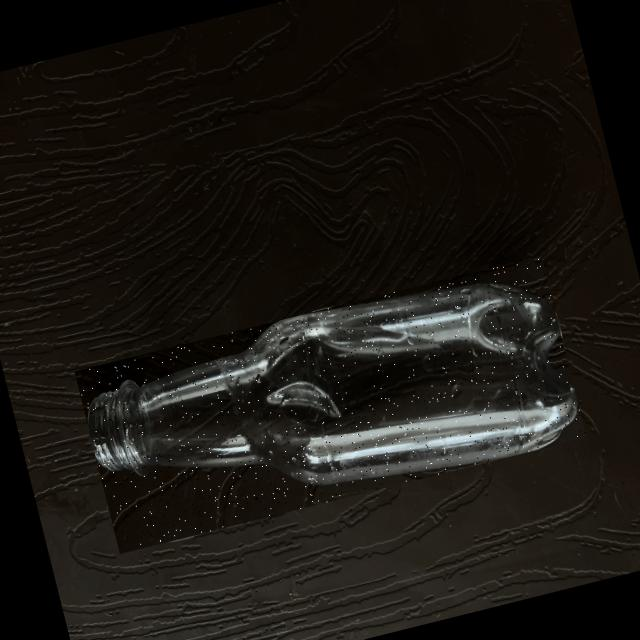PET_With_Liquid: (89, 285, 576, 484)
